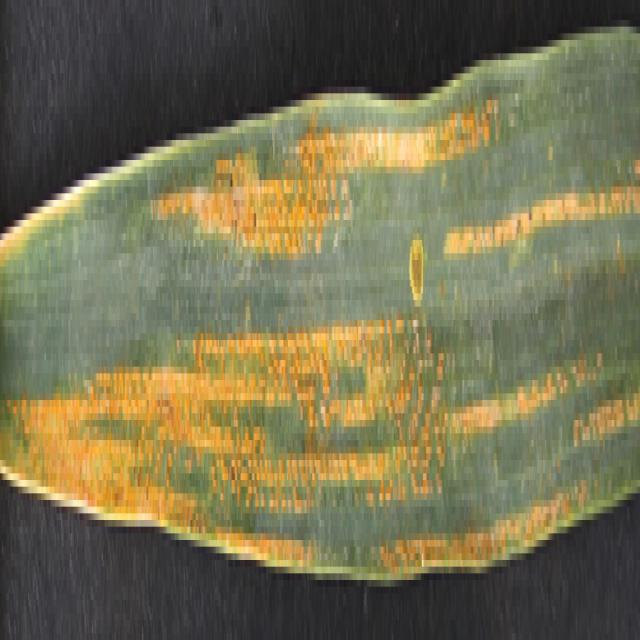leaf rust: (1, 93, 637, 567)
